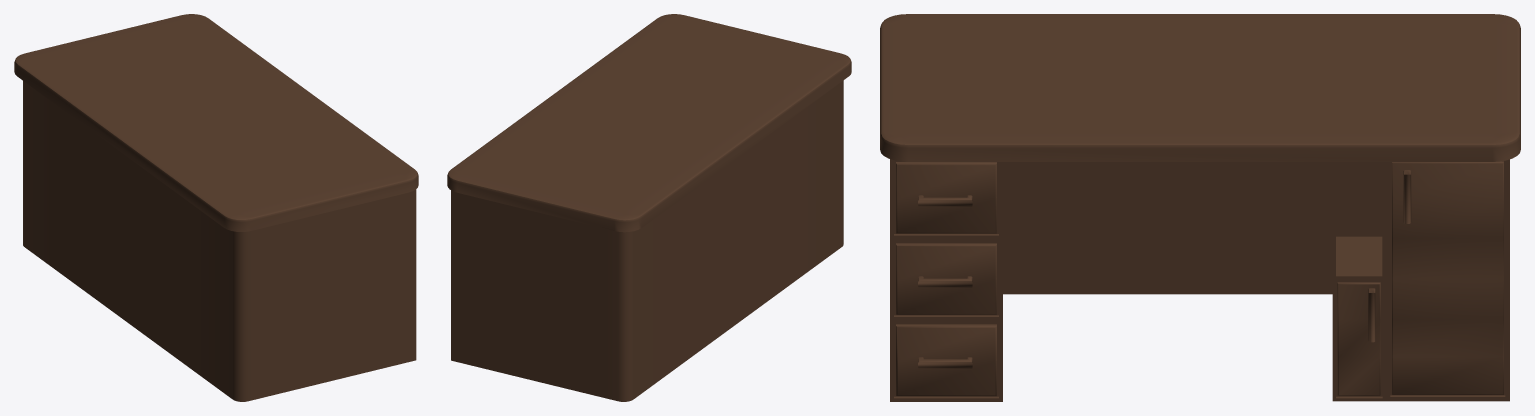
The model's file is OfficeDesk.fbx.
3 renders of one model, left to right at view 1: azimuth 30°, elevation 25°; view 2: azimuth 150°, elevation 25°; view 3: azimuth 270°, elevation 25°, orthographic. The views are drawn at different scales.
Parts seen in each view (by area): view 1: SM_Med_Office_Desk; view 2: SM_Med_Office_Desk; view 3: SM_Med_Office_Desk.
Boxes of the visible parts, box(x1,y1,x2,y2) form: SM_Med_Office_Desk: box(14, 14, 418, 401); SM_Med_Office_Desk: box(447, 14, 851, 401); SM_Med_Office_Desk: box(880, 14, 1520, 401).
Bounding box in the file's own units: 81.34 × 74.72 × 166.
